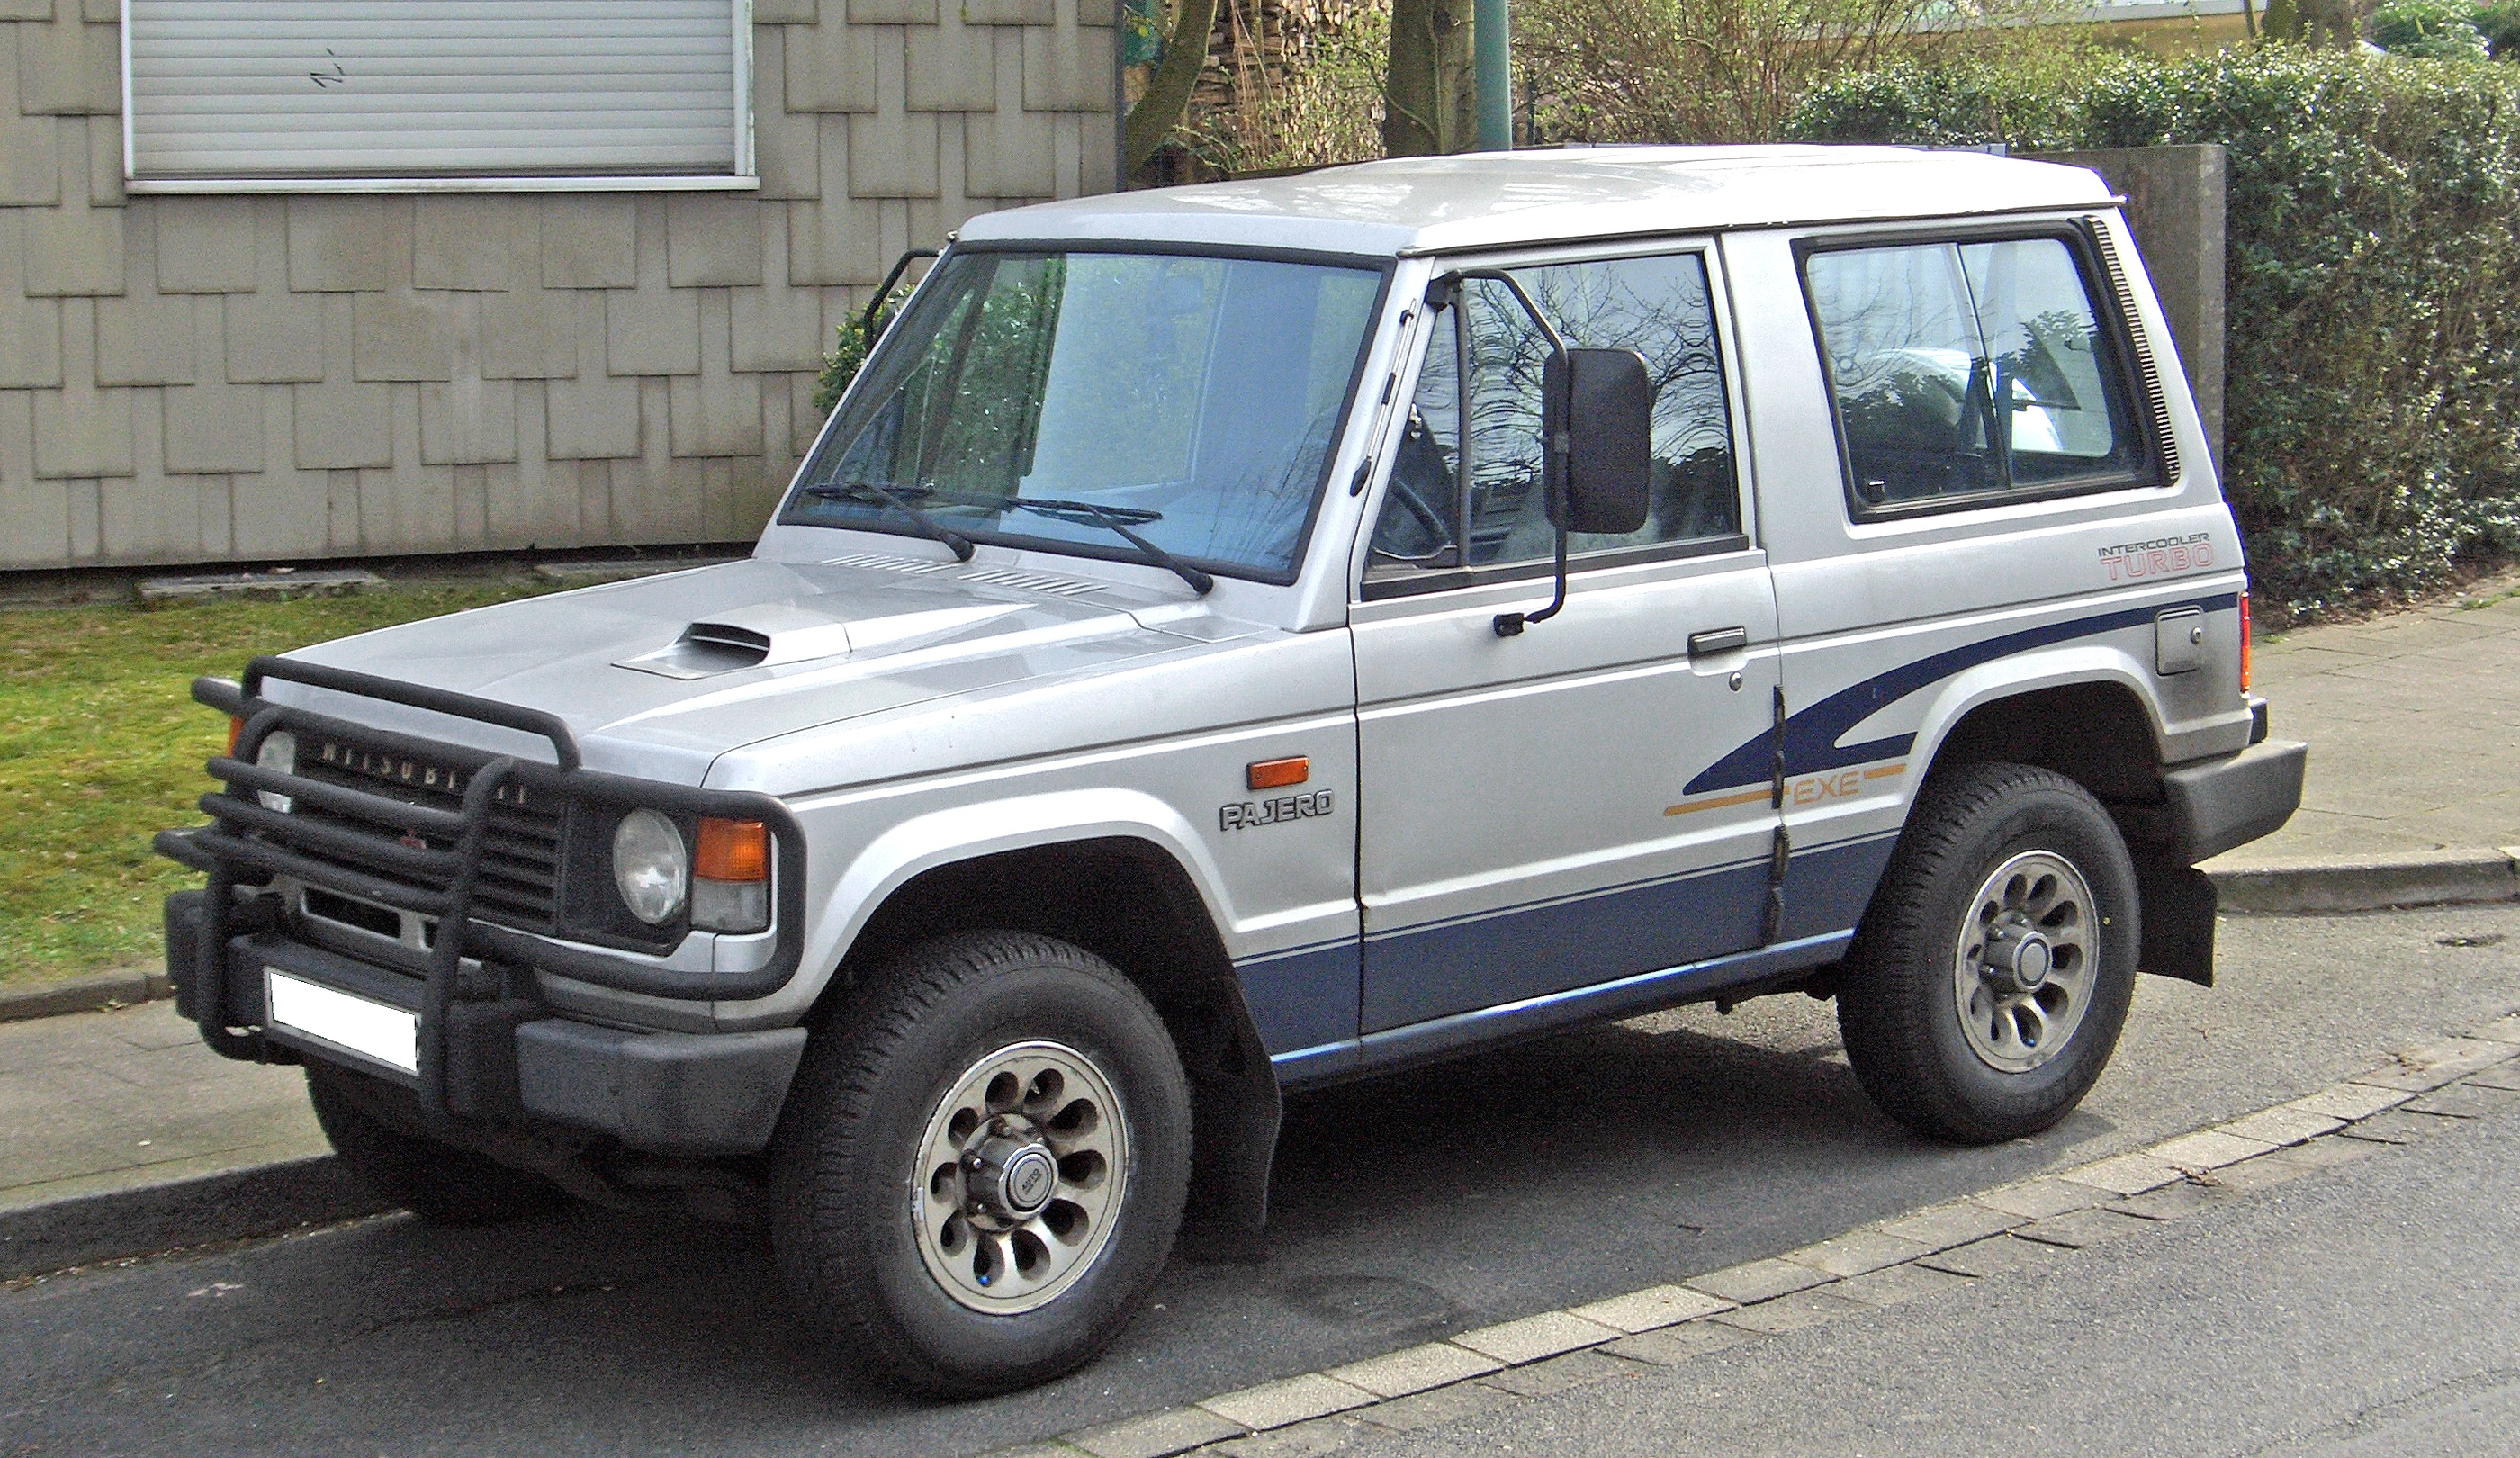pickup: (163, 135, 2317, 1399)
